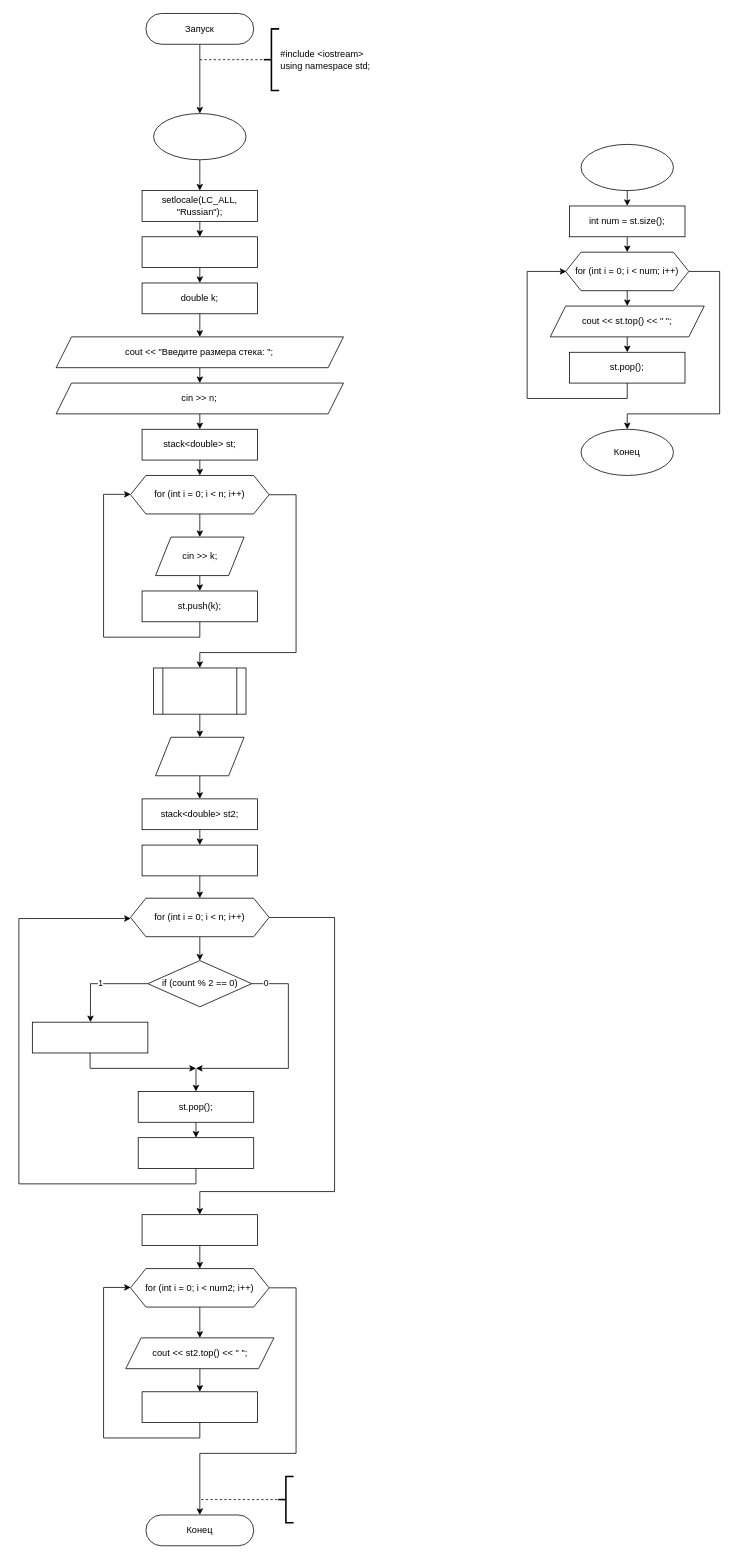
Image size: 740x1559. Some labels were removed from this diagram. Each missing label, with the box of its shape:
count++;: (137, 1137, 254, 1168)
cout << endl;: (155, 737, 244, 776)
int count = 1;: (141, 844, 258, 876)
int main() {: (153, 113, 246, 160)
int n;: (141, 236, 258, 268)
int num2 = st2.size();: (141, 1214, 258, 1245)
print(st);: (153, 667, 246, 714)
return 0; }: (277, 1475, 294, 1523)
st2.pop();: (141, 1391, 258, 1423)
st2.push(st.top());: (32, 1021, 148, 1053)
void print(stack<double> st): (580, 144, 673, 191)
